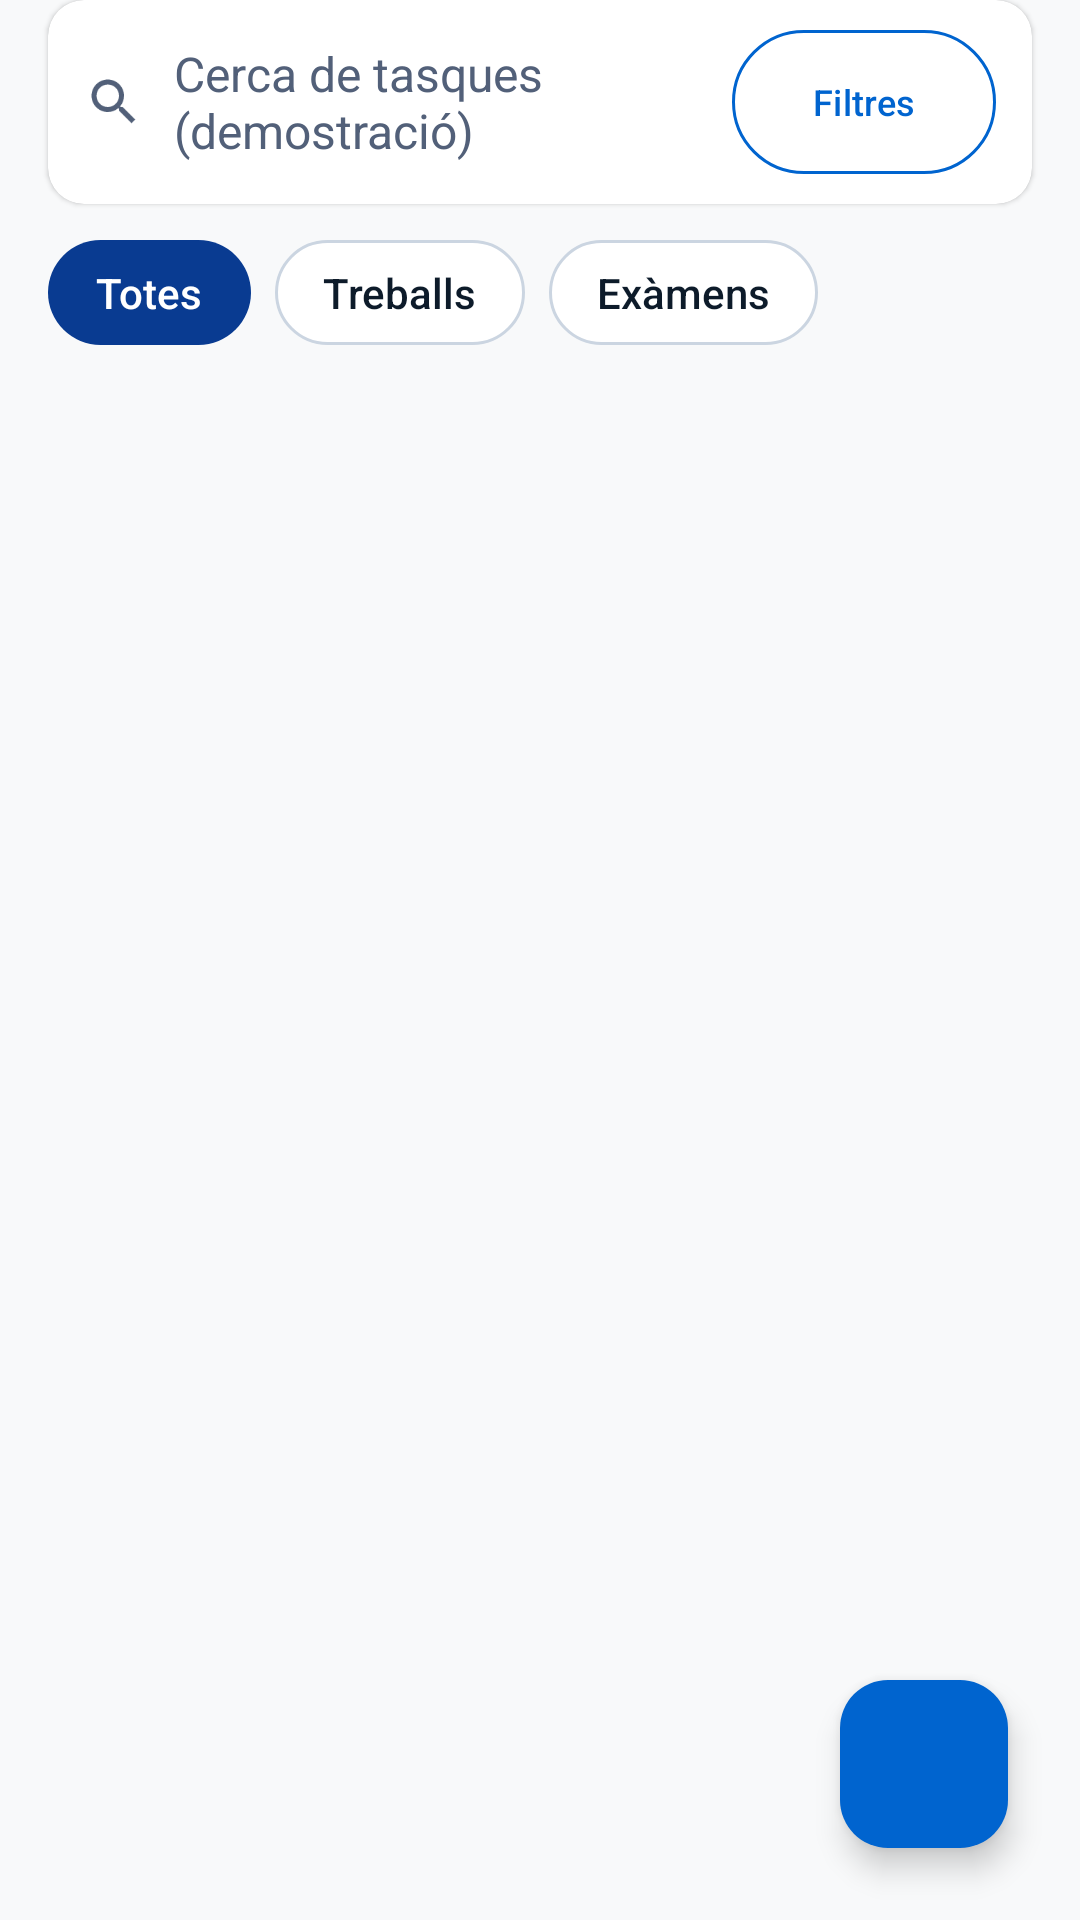

Locate icon controls on the screen. Image size 1080 x 1920, boxes as bbox=(x1, y1, x2, y2).
search: bbox=(91, 79, 136, 124)
